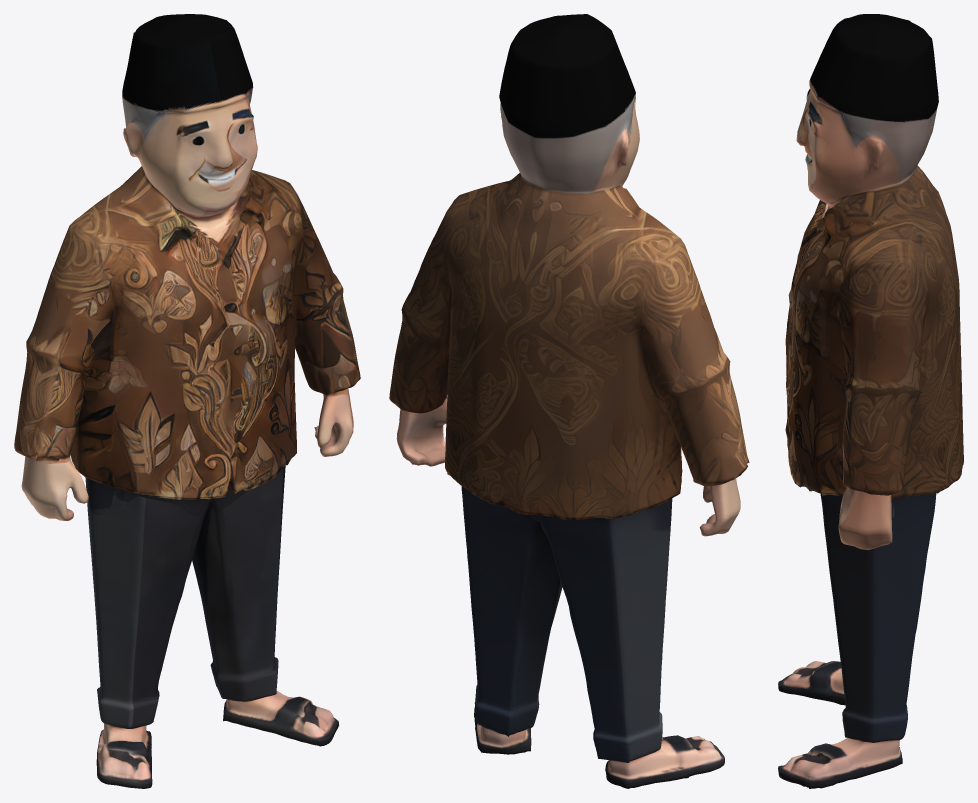
The model's file is npc_haji_dadang.glb.
3 renders of one model, left to right at view 1: azimuth 30°, elevation 25°; view 2: azimuth 150°, elevation 25°; view 3: azimuth 270°, elevation 25°, orthographic. The views are drawn at different scales.
Visible parts, largest first — view 1: model; view 2: model; view 3: model.
Part boxes in pixels (x1=…): model: x1=14, y1=14, x2=360, y2=788; model: x1=389, y1=14, x2=749, y2=788; model: x1=778, y1=14, x2=963, y2=788.
Size of the model in its own units: 0.8575 by 1.74 by 0.4115.
Materials: 1 (1 with a texture image).
